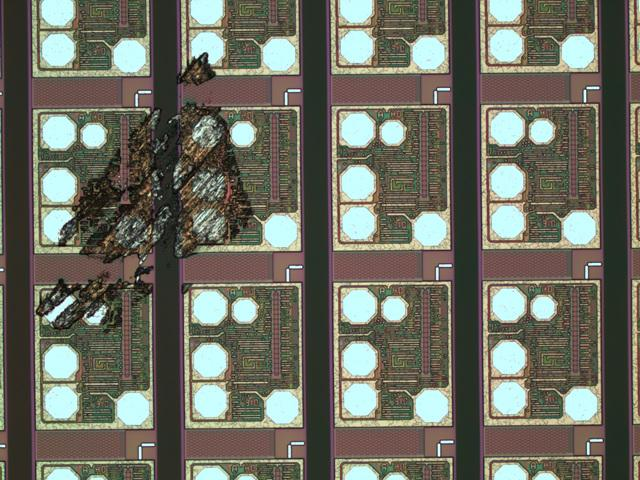BLOCK ETCH: (33, 51, 259, 332)
